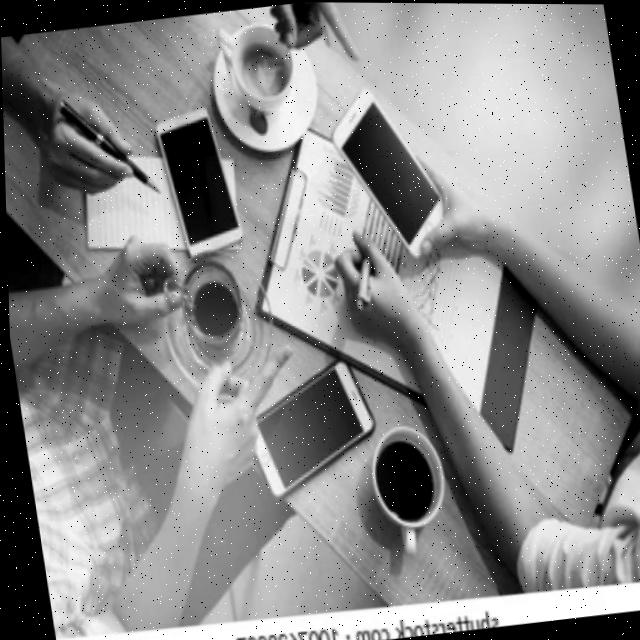phone: (322, 76, 453, 266), (238, 350, 384, 500), (149, 100, 247, 260)
